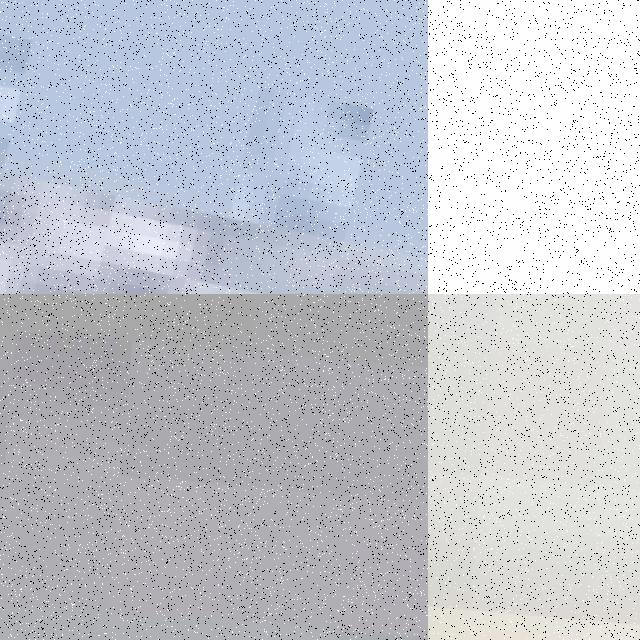0: (0, 0, 428, 294)
drone: (428, 219, 640, 294)
